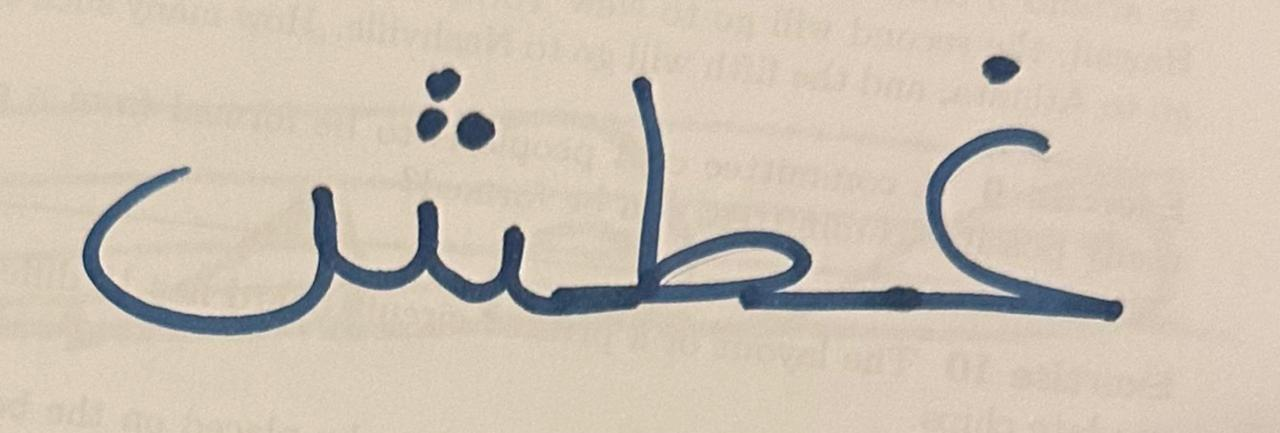ghain: (841, 17, 1169, 414)
tah: (35, 12, 560, 417)
teh: (566, 14, 836, 411)
